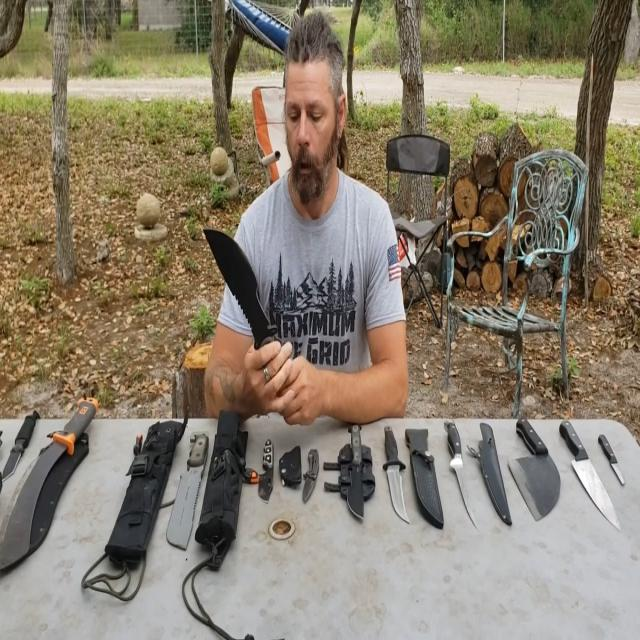knife: (0, 394, 104, 570), (206, 231, 296, 381), (549, 406, 628, 531), (165, 420, 214, 562), (506, 391, 558, 522), (442, 402, 486, 533), (342, 393, 378, 544), (0, 404, 51, 488), (248, 418, 288, 523), (376, 414, 411, 520), (300, 433, 328, 522), (594, 422, 631, 487)
